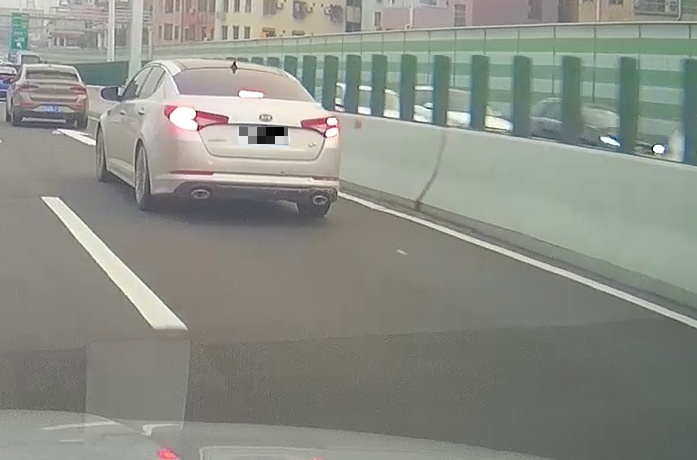L_light: (163, 104, 229, 130), (18, 84, 39, 90)
R_light: (300, 115, 339, 138), (70, 86, 85, 92)
T_light: (238, 90, 264, 98), (47, 70, 58, 73)
day-brake: (155, 62, 340, 216)
day-no: (15, 66, 88, 127)
plate_1: (239, 127, 288, 144)
